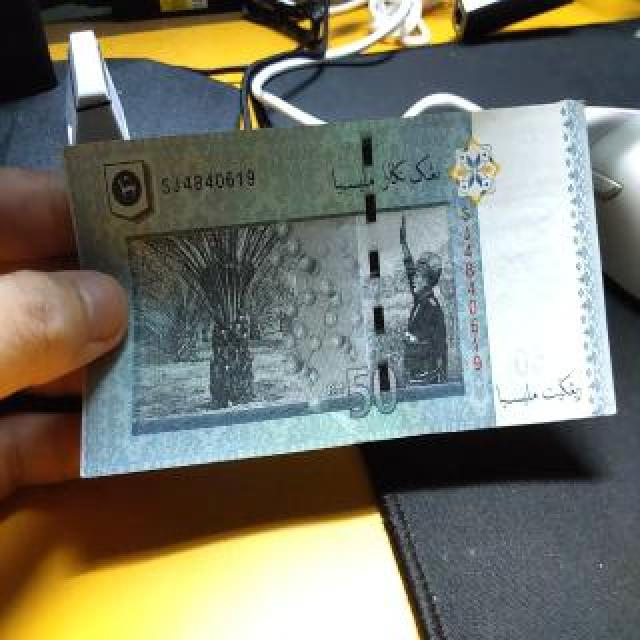50 Ringgit: (48, 86, 622, 483)
